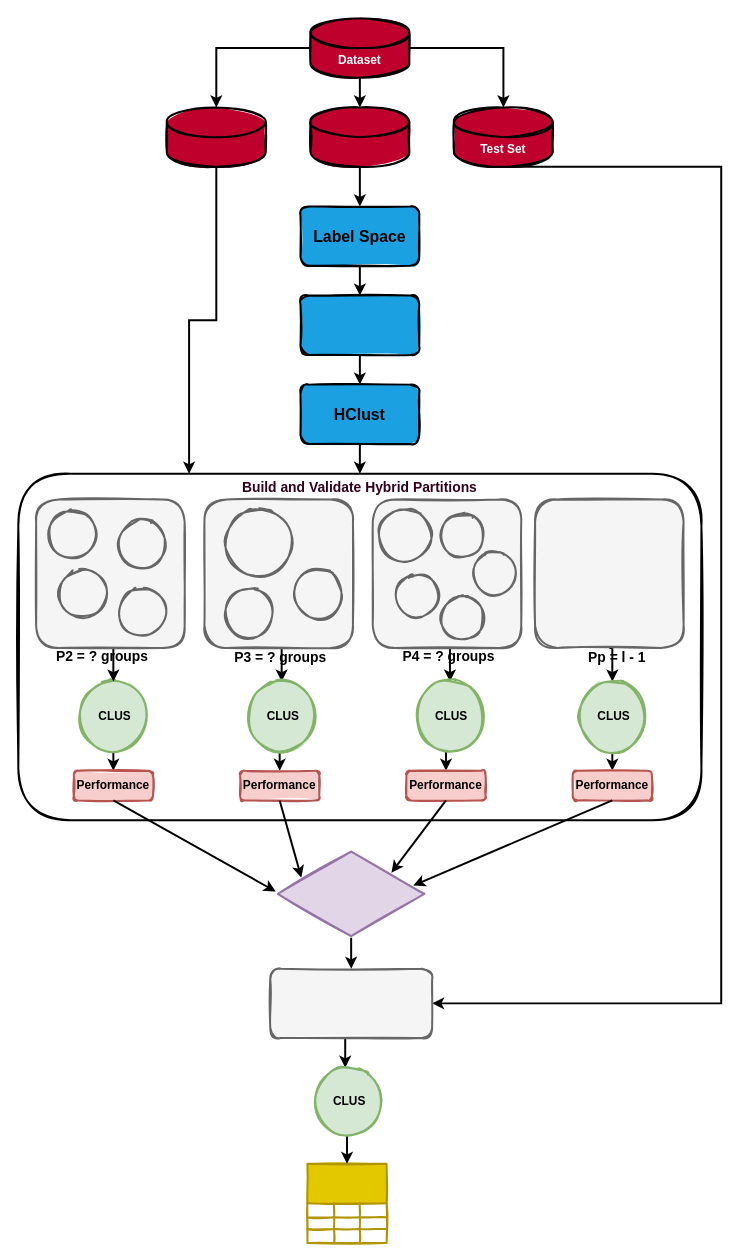
Image size: 746x1260. Some labels were removed from this diagram. Here are the shapes that lost their labels. From the top down, the centre of each, then its label:
point (215, 136): Validation Set
point (359, 136): Train Set
point (359, 324): Kohonen
point (350, 893): Best Hybrid Partition Micro-F1
point (351, 1003): Build and Test the best hybrid partition
point (346, 1202): Results
